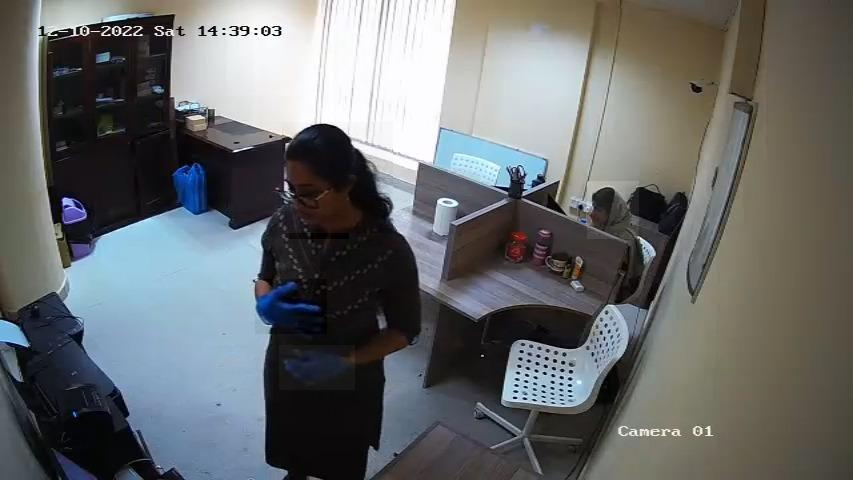apron: (256, 280, 328, 335), (280, 345, 356, 390)
no_gloves: (282, 123, 393, 234), (588, 181, 640, 239)
no_hairnet: (285, 186, 349, 239), (586, 202, 611, 226)
